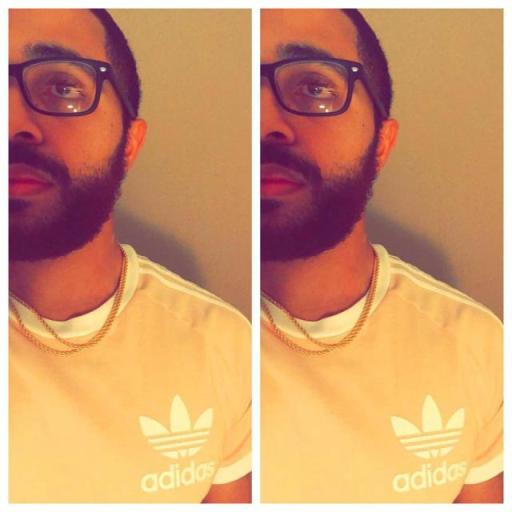Adidas: (386, 390, 473, 496), (136, 391, 218, 492)
